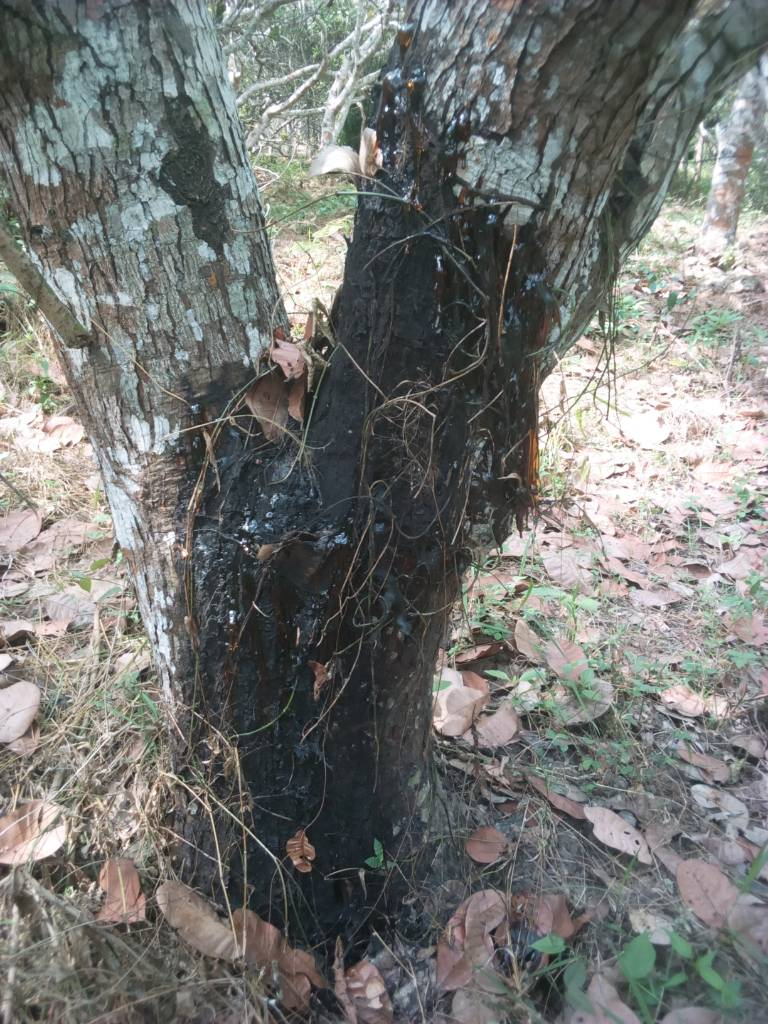Gommose: (185, 464, 444, 935), (380, 33, 555, 535)
